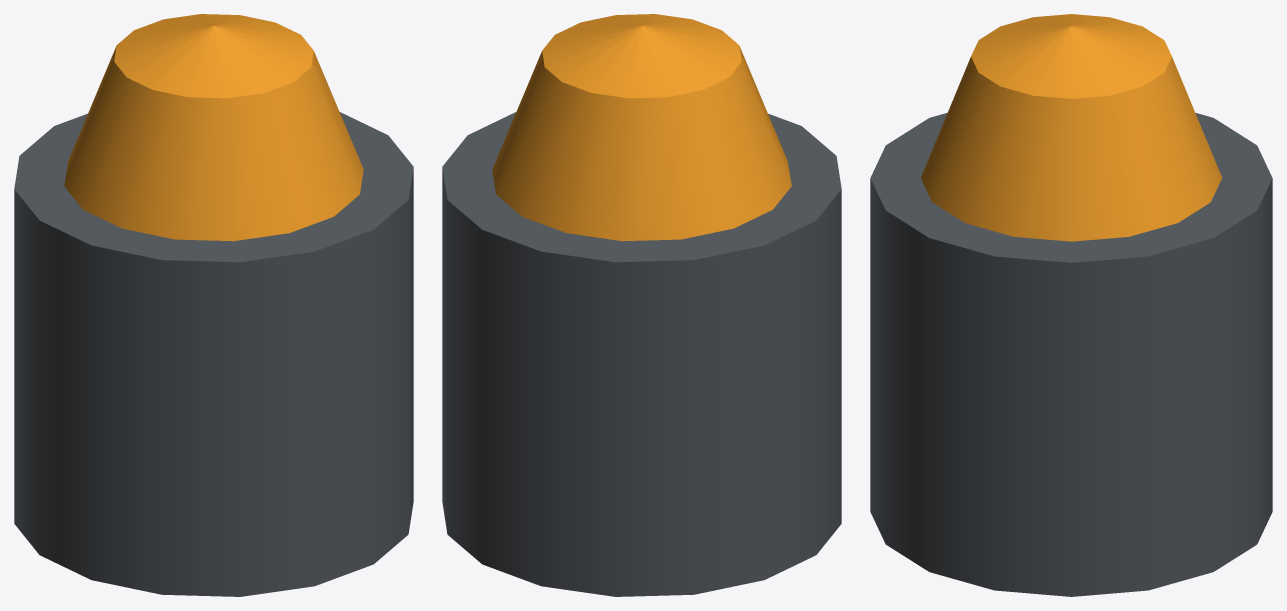
File: ec2_beacon.obj
3 views of the same model, side by side, from view 1: azimuth 30°, elevation 25°; view 2: azimuth 150°, elevation 25°; view 3: azimuth 270°, elevation 25° (orthographic).
Visible parts, largest first — view 1: ec2_beacon; view 2: ec2_beacon; view 3: ec2_beacon.
Boxes of the visible parts, x1,y1,x2,y2 form: ec2_beacon: [14, 14, 413, 596]; ec2_beacon: [442, 14, 841, 596]; ec2_beacon: [870, 14, 1272, 596].
Size of the model in its own units: 0.24 by 0.32 by 0.24.
